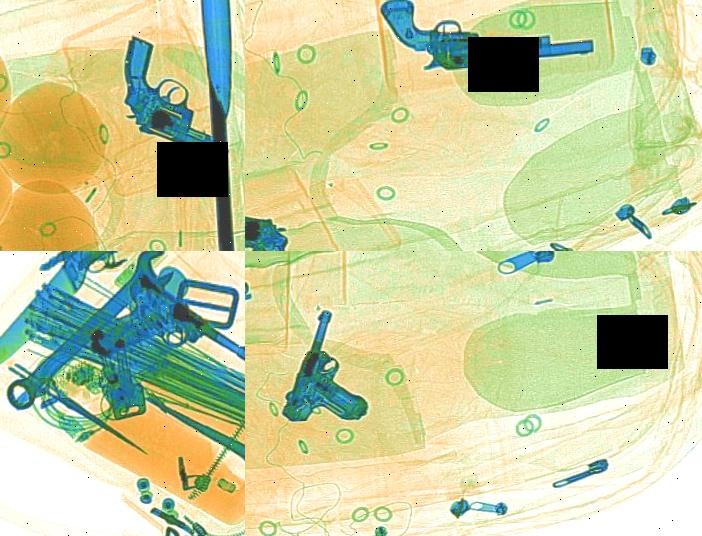Gun: (72, 263, 245, 424), (61, 24, 245, 169), (266, 302, 407, 434), (375, 0, 593, 76), (245, 196, 310, 251)
Knife: (0, 251, 197, 391), (144, 379, 245, 536), (6, 354, 150, 462), (195, 0, 245, 251)
Wrench: (0, 251, 190, 416)
